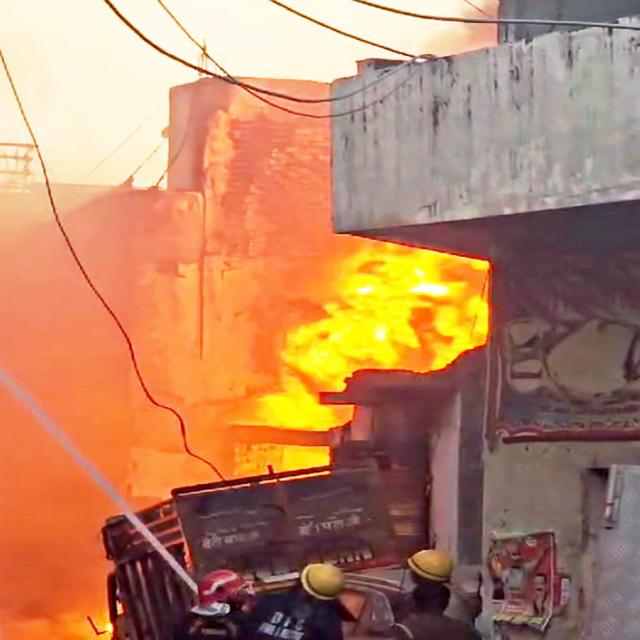fire: (257, 244, 489, 427), (278, 444, 330, 471)
